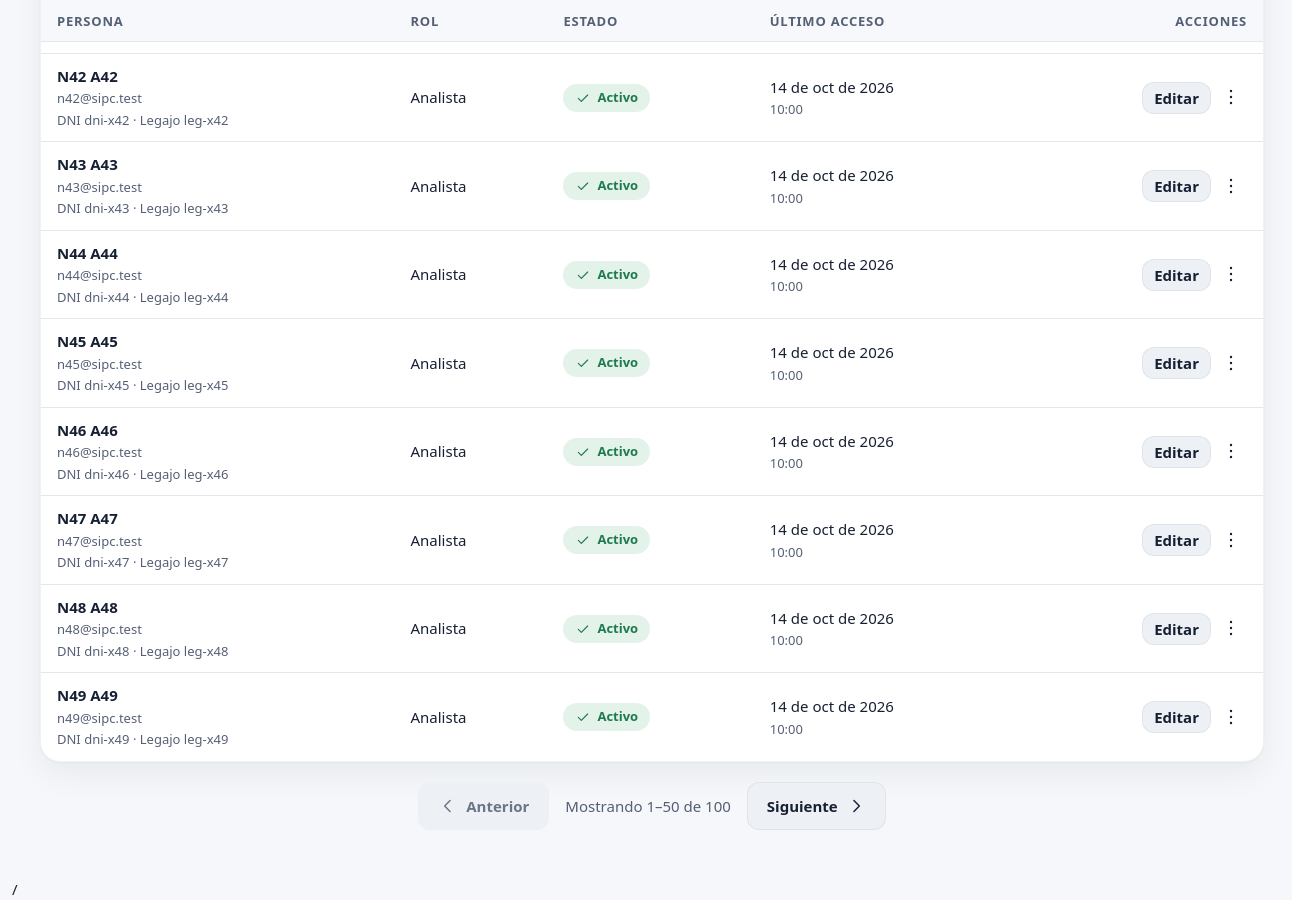
UsuariosPage list › uses X-Total-Count: "Mostrando X–Y de N" and no next page at the end
The width and height of the screenshot is (1292, 900).
(page scrolled)
Expected: the text "Mostrando 1–50 de 100" is shown, x1=565 y1=795 x2=731 y2=817
Step 1. Click the button "Siguiente" → (816, 806), box x1=747 y1=782 x2=886 y2=830
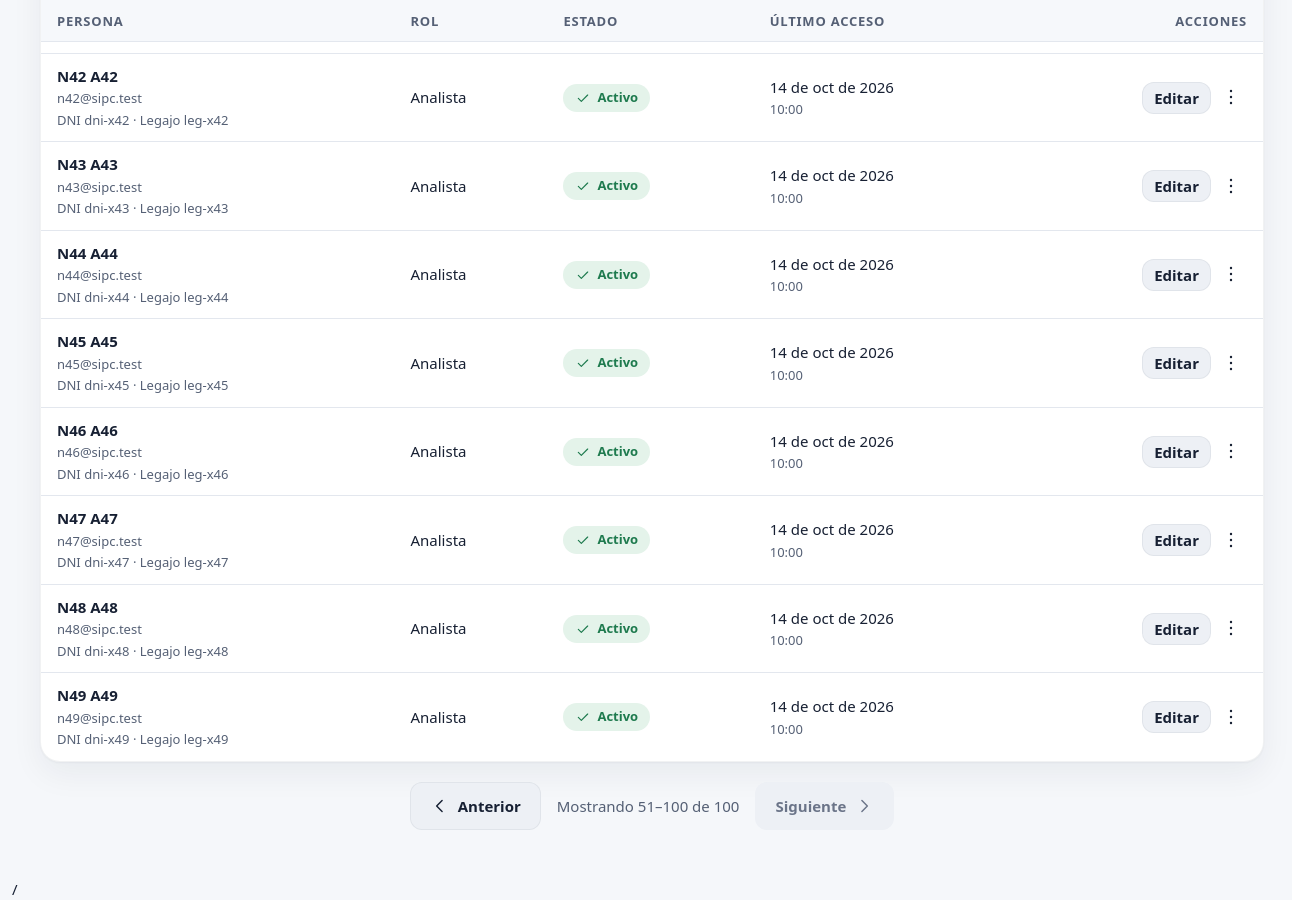
Now the text "Mostrando 51–100 de 100" is shown, box x1=557 y1=795 x2=740 y2=817
Now the button "Siguiente" is disabled, box x1=755 y1=782 x2=894 y2=830
